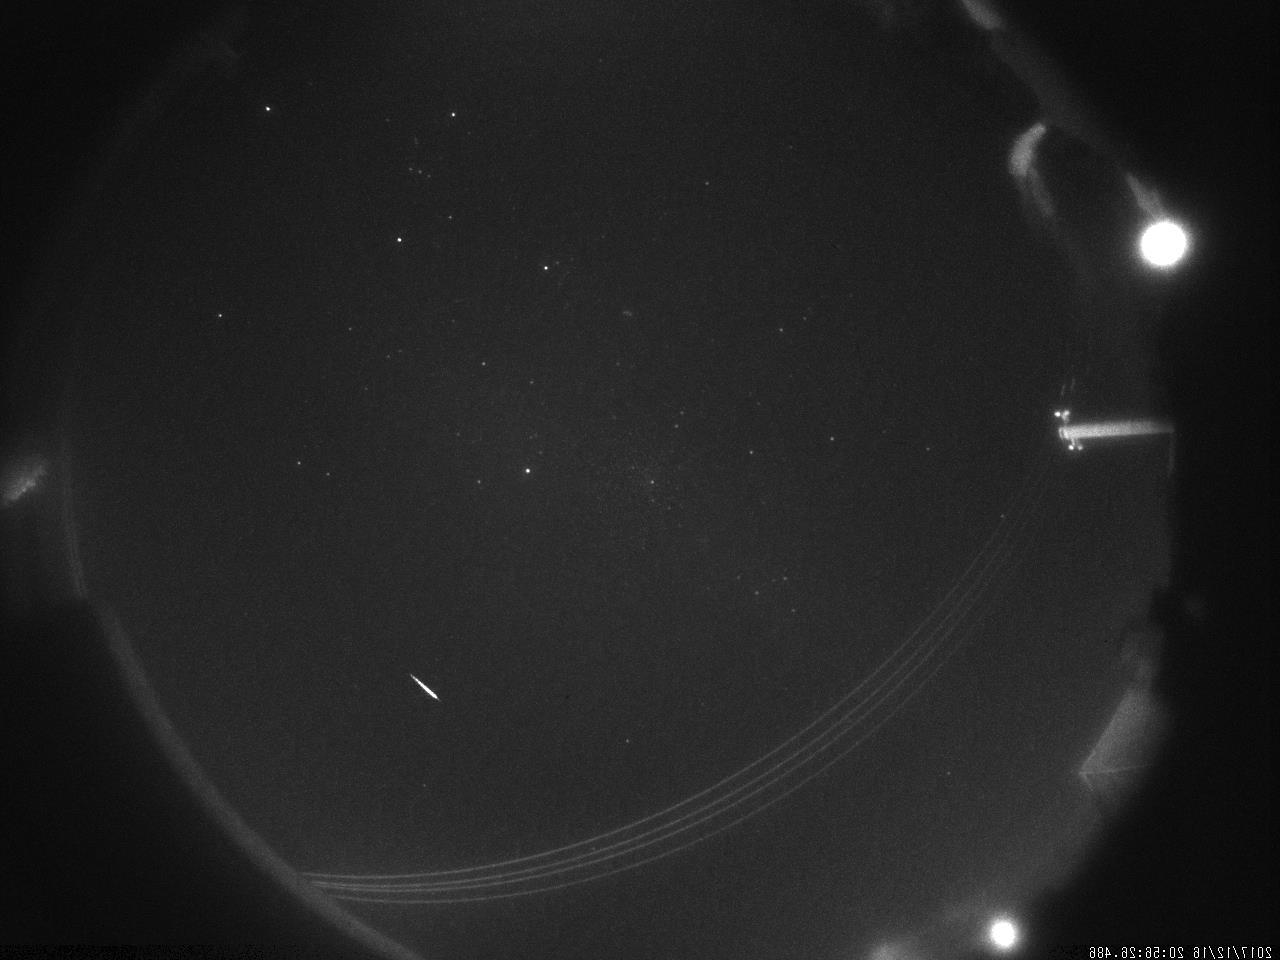meteor: (368, 658, 464, 717)
